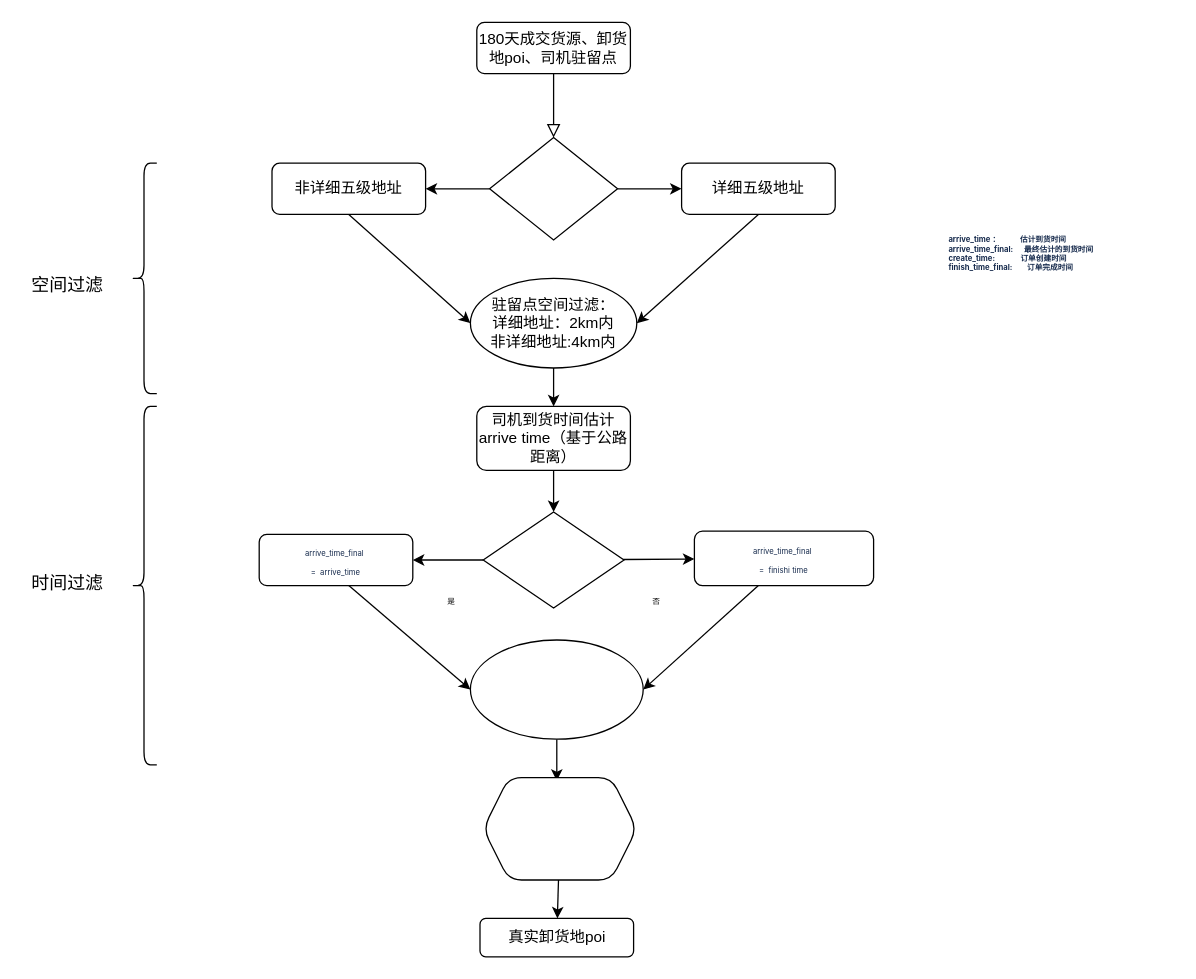
Image size: 1196x979. Some labels were removed from this diagram. Here are the shapes that lost their labels. From the top down, the centre of each, then its label:
At (553,188): "货主填写地址规则判定".
At (553,559): "arrive_time <finishi time".
At (556,689): "驻留点时间过滤： create_time<time(驻留点)< arrive_time_final".
At (559,828): "核心密度点识别算法".
